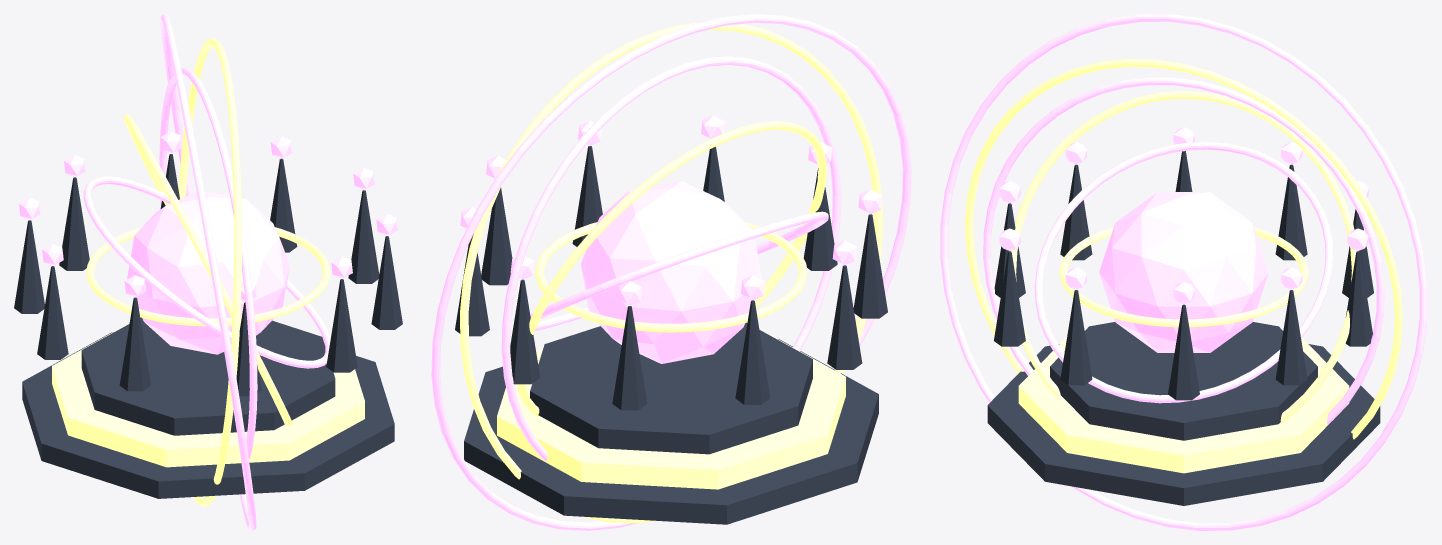
Rendered from gpu-blender-v20.glb.
The picture shows the model from 3 angles, left to right: view 1: azimuth 30°, elevation 25°; view 2: azimuth 150°, elevation 25°; view 3: azimuth 270°, elevation 25°; orthographic projection. The views are drawn at different scales.
Visible parts, largest first — view 1: Cylinder.002, Cylinder, SovereignCore_digital-asset-forge, Cylinder.001, Torus.005, Torus.004, Torus.001, Torus.003, Torus, Torus.002, Cone.006, Cone.008 (+7 smaller); view 2: Cylinder.002, SovereignCore_digital-asset-forge, Cylinder, Cylinder.001, Torus.005, Torus.003, Torus.004, Torus.002, Torus, Torus.001, Cone.003, Cone.004 (+8 smaller); view 3: SovereignCore_digital-asset-forge, Cylinder.002, Cylinder, Cylinder.001, Torus.005, Torus.004, Torus.003, Torus.001, Torus.002, Torus, Cone, Cone.001 (+7 smaller).
Boxes of the visible parts, box(x1,y1,x2,y2) form: Cylinder.002: box(81, 317, 335, 435); Cylinder: box(22, 332, 394, 498); SovereignCore_digital-asset-forge: box(127, 191, 289, 354); Cylinder.001: box(52, 324, 364, 467); Torus.005: box(160, 14, 256, 530); Torus.004: box(178, 38, 241, 506); Torus.001: box(83, 176, 330, 368); Torus.003: box(159, 68, 257, 458); Torus: box(86, 227, 330, 326); Torus.002: box(123, 114, 292, 425); Cone.006: box(119, 297, 150, 391); Cone.008: box(326, 279, 357, 372); Cylinder.002: box(530, 322, 812, 454); SovereignCore_digital-asset-forge: box(581, 181, 761, 363); Cylinder: box(464, 339, 878, 524); Cylinder.001: box(497, 330, 845, 489); Torus.005: box(431, 14, 911, 530); Torus.003: box(501, 56, 841, 461); Torus.004: box(460, 22, 882, 523); Torus.002: box(517, 121, 826, 415); Torus: box(535, 222, 807, 332); Torus.001: box(530, 211, 828, 330); Cone.003: box(612, 306, 647, 410); Cone.004: box(735, 300, 770, 404); SovereignCore_digital-asset-forge: box(1099, 192, 1268, 352); Cylinder.002: box(1050, 322, 1317, 440); Cylinder: box(987, 344, 1380, 505); Cylinder.001: box(1018, 336, 1349, 473); Torus.005: box(940, 14, 1427, 530); Torus.004: box(965, 59, 1402, 439); Torus.003: box(983, 77, 1384, 423); Torus.001: box(1034, 141, 1333, 403); Torus.002: box(1010, 90, 1357, 423); Torus: box(1059, 227, 1308, 327); Cone: box(1168, 304, 1199, 400); Cone.001: box(1275, 290, 1307, 385).
Bounding box in the file's own units: 4.41 × 5.93 × 5.46.
